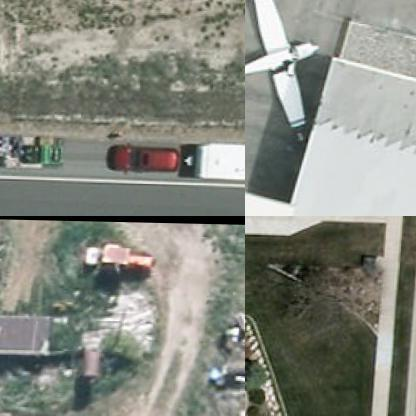camping car: (195, 142, 244, 187)
car: (108, 144, 181, 173)
plane: (245, 0, 346, 152)
tractor: (83, 228, 162, 286)
